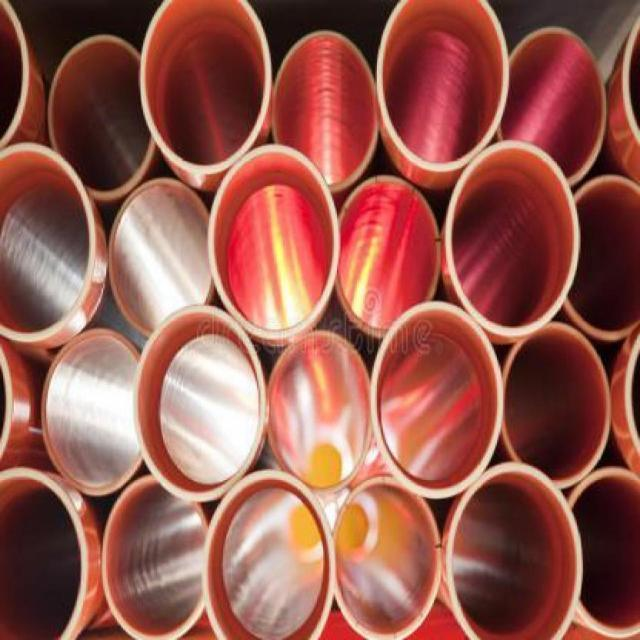pipe: (371, 302, 503, 499), (132, 306, 266, 499), (447, 143, 580, 337), (208, 145, 341, 338), (447, 461, 584, 639), (138, 0, 271, 174), (376, 0, 510, 171), (203, 469, 336, 639), (0, 143, 97, 346), (47, 35, 157, 199), (502, 323, 610, 488), (101, 475, 208, 640), (333, 476, 441, 639), (498, 26, 608, 186), (272, 31, 380, 190), (41, 327, 143, 495), (335, 176, 440, 338), (270, 330, 373, 492), (109, 179, 215, 335), (0, 467, 88, 638), (564, 174, 640, 342), (566, 468, 639, 639), (0, 0, 32, 146)
